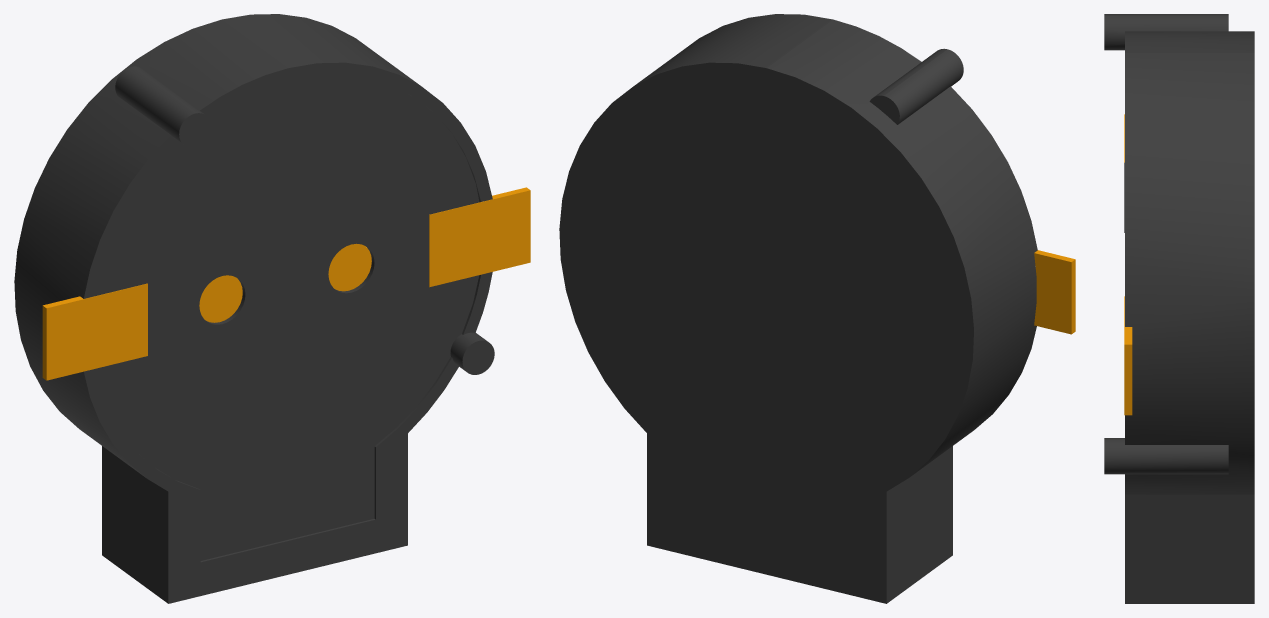
Rendered from sfe-buzzer_9mm_smd.glb.
The picture shows the model from 3 angles, left to right: view 1: azimuth 30°, elevation 25°; view 2: azimuth 150°, elevation 25°; view 3: azimuth 270°, elevation 25°; orthographic projection. The views are drawn at different scales.
Visible parts, largest first — view 1: 0.08333333333333333_0.08333333333333333_0.08333333333333333_, 0.9166666666666666_0.3333333333333333_0_0; view 2: 0.08333333333333333_0.08333333333333333_0.08333333333333333_, 0.9166666666666666_0.3333333333333333_0_0; view 3: 0.08333333333333333_0.08333333333333333_0.08333333333333333_, 0.9166666666666666_0.3333333333333333_0_0.
Boxes of the visible parts, left/top/right/bottom form: 0.08333333333333333_0.08333333333333333_0.08333333333333333_: left=14, top=14, right=494, bottom=603; 0.9166666666666666_0.3333333333333333_0_0: left=42, top=187, right=530, bottom=380; 0.08333333333333333_0.08333333333333333_0.08333333333333333_: left=559, top=14, right=1037, bottom=603; 0.9166666666666666_0.3333333333333333_0_0: left=1034, top=250, right=1075, bottom=334; 0.08333333333333333_0.08333333333333333_0.08333333333333333_: left=1104, top=14, right=1254, bottom=603; 0.9166666666666666_0.3333333333333333_0_0: left=1124, top=114, right=1132, bottom=415.
Size of the model in its own units: 1.05 by 1.05 by 0.29.
